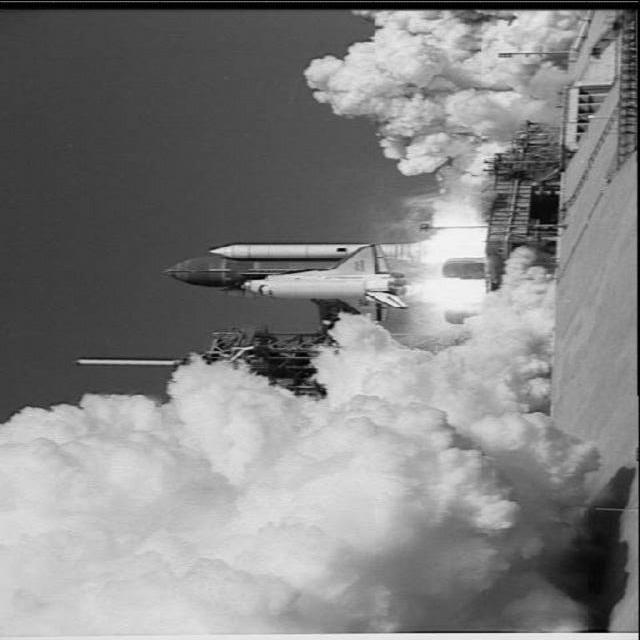missile: (202, 242, 382, 262)
